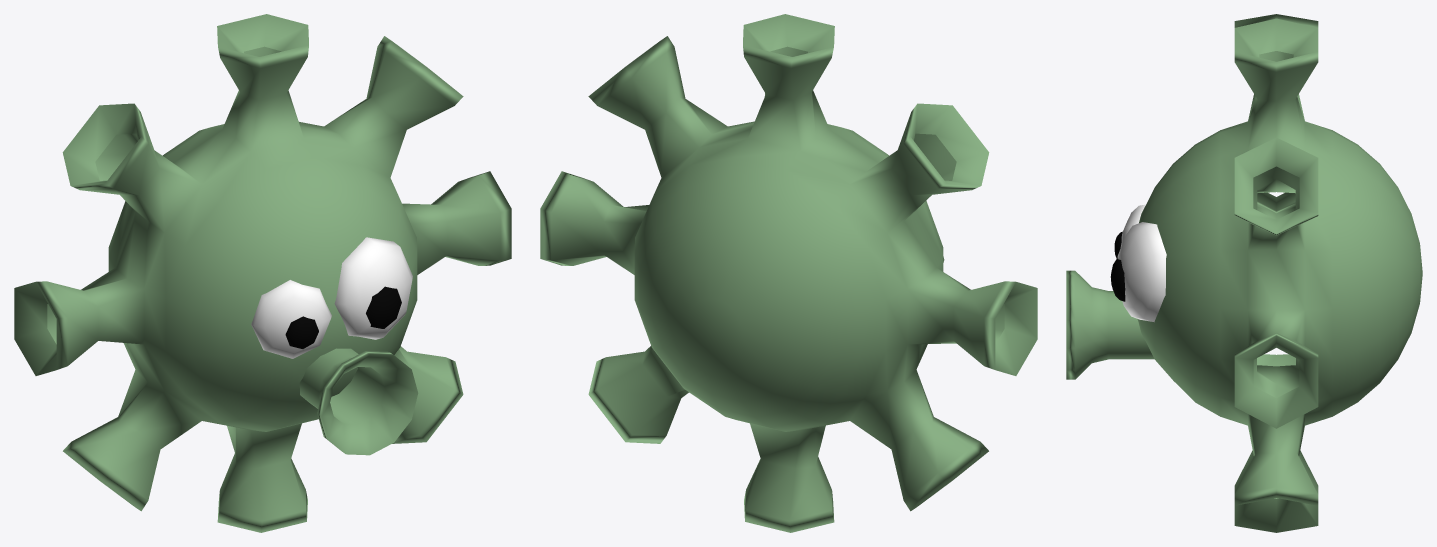
The model's file is germenemy_model.fbx.
3 renders of one model, left to right at view 1: azimuth 30°, elevation 25°; view 2: azimuth 150°, elevation 25°; view 3: azimuth 270°, elevation 25°, orthographic.
Parts seen in each view (by area): view 1: GermBody, pCylinder1, pSphere3, pSphere2, pSphere4, pSphere5; view 2: GermBody; view 3: GermBody, pCylinder1, pSphere3, pSphere4.
Boxes of the visible parts, x1=… form: GermBody: x1=14, y1=14, x2=511, y2=532; pCylinder1: x1=299, y1=348, x2=418, y2=455; pSphere3: x1=334, y1=237, x2=412, y2=339; pSphere2: x1=251, y1=280, x2=331, y2=358; pSphere4: x1=366, y1=286, x2=401, y2=328; pSphere5: x1=285, y1=316, x2=318, y2=348; GermBody: x1=540, y1=14, x2=1037, y2=532; GermBody: x1=1137, y1=14, x2=1422, y2=532; pCylinder1: x1=1066, y1=270, x2=1154, y2=379; pSphere3: x1=1117, y1=222, x2=1166, y2=322; pSphere4: x1=1110, y1=259, x2=1125, y2=301.
Bounding box in the file's own units: 8.75 × 8.75 × 6.05.
